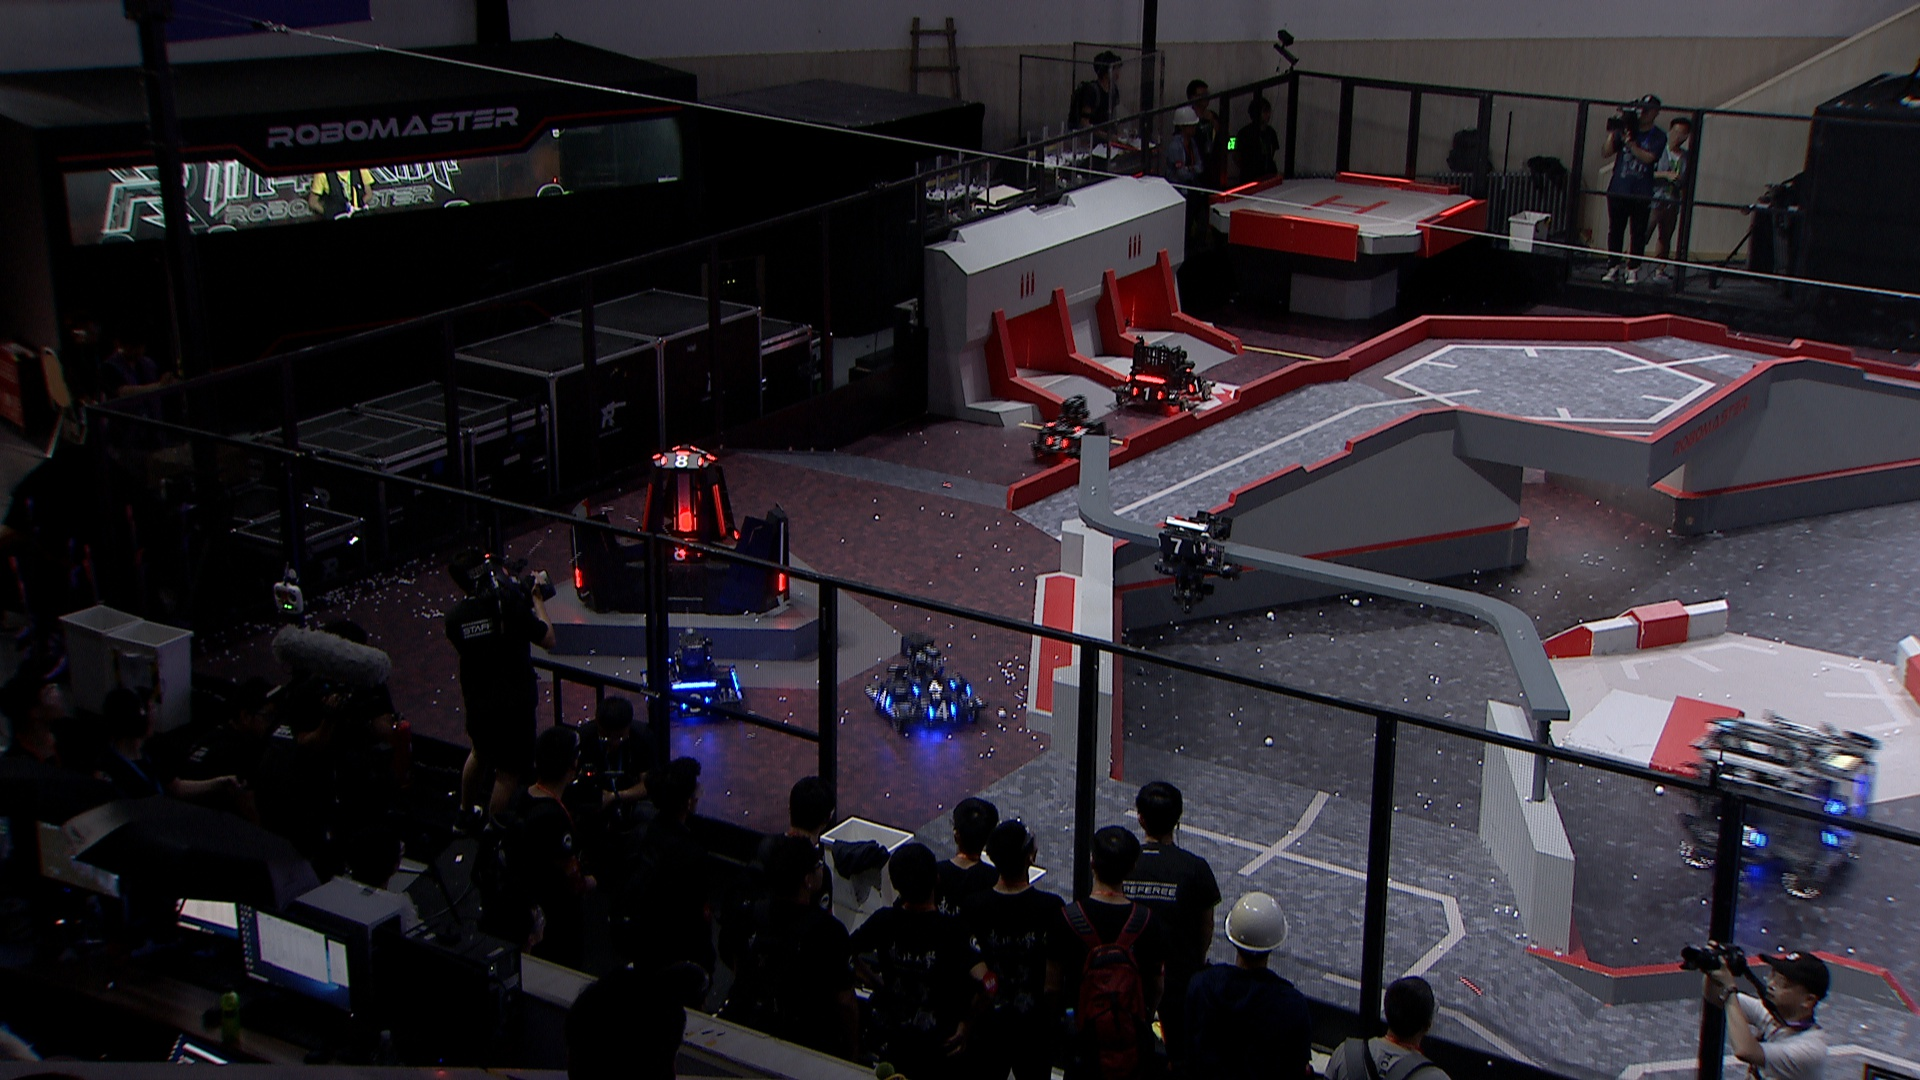armor: (709, 480, 728, 541), (1154, 534, 1197, 559), (676, 690, 713, 716), (1816, 823, 1854, 847), (1741, 822, 1768, 853), (910, 678, 957, 695), (923, 699, 959, 721), (657, 454, 705, 469), (638, 481, 651, 537), (666, 545, 702, 564), (674, 506, 695, 535), (1130, 385, 1163, 404), (1040, 418, 1081, 433), (872, 684, 894, 709), (1044, 434, 1069, 451), (571, 566, 585, 593), (774, 568, 789, 593), (1185, 377, 1203, 396)
base: (564, 442, 793, 617)
car: (1680, 711, 1880, 903), (861, 633, 989, 736), (636, 626, 745, 727), (1112, 334, 1207, 414), (1030, 392, 1112, 465)
watcher: (1149, 510, 1240, 613)
